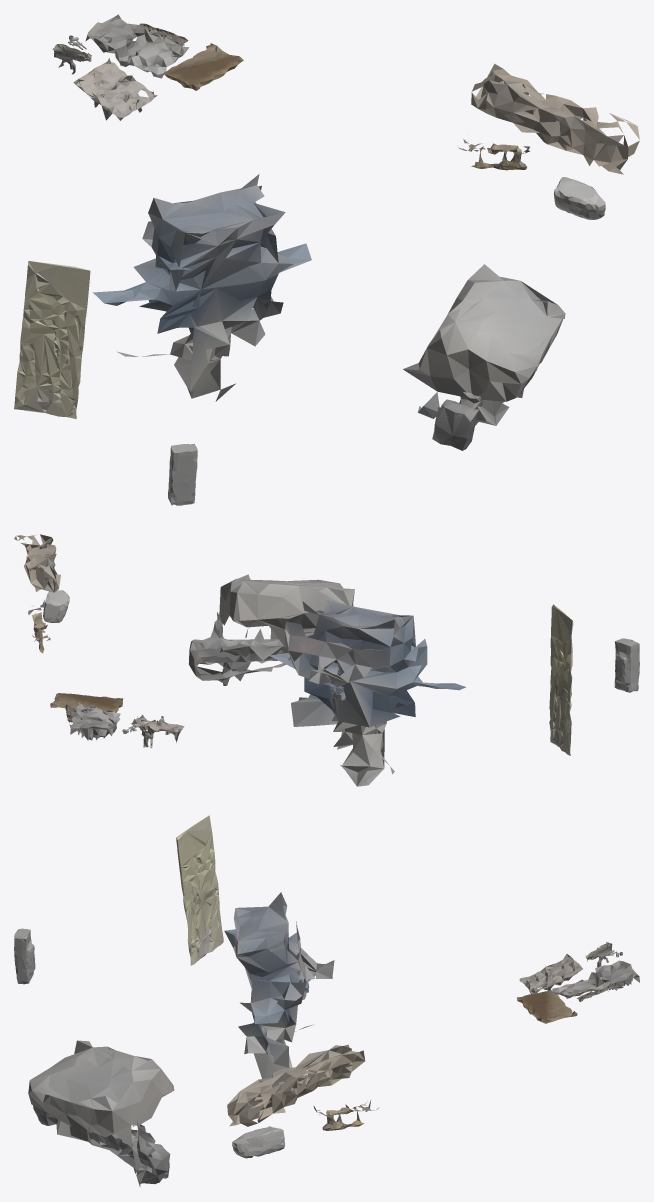
Rendered from models-0-0.glb.
The picture shows the model from 3 angles, top to bottom: view 1: azimuth 30°, elevation 25°; view 2: azimuth 150°, elevation 25°; view 3: azimuth 270°, elevation 25°; orthographic projection. The views are drawn at different scales.
Visible parts, largest first — view 1: obj-0-29, obj-0-26, obj-0-38, obj-0-2, obj-0-30, obj-0-32, obj-0-40, obj-0-46, obj-0-33, obj-0-57, obj-0-28; view 2: obj-0-29, obj-0-26, obj-0-38, obj-0-40, obj-0-2, obj-0-30, obj-0-33, obj-0-46, obj-0-57, obj-0-32, obj-0-28; view 3: obj-0-26, obj-0-29, obj-0-2, obj-0-38, obj-0-40, obj-0-30, obj-0-57, obj-0-46, obj-0-32, obj-0-33, obj-0-28.
Boxes of the visible parts, <box> form: obj-0-29: <box>93,174,311,401</box>; obj-0-26: <box>403,264,565,425</box>; obj-0-38: <box>14,261,90,418</box>; obj-0-2: <box>471,63,639,174</box>; obj-0-30: <box>85,14,189,78</box>; obj-0-32: <box>73,58,157,120</box>; obj-0-40: <box>432,389,523,450</box>; obj-0-46: <box>163,43,243,90</box>; obj-0-33: <box>168,443,197,505</box>; obj-0-57: <box>554,177,605,219</box>; obj-0-28: <box>458,139,529,170</box>; obj-0-29: <box>269,600,466,786</box>; obj-0-26: <box>218,574,354,681</box>; obj-0-38: <box>549,604,573,755</box>; obj-0-40: <box>188,612,285,685</box>; obj-0-2: <box>14,534,60,592</box>; obj-0-30: <box>69,702,120,740</box>; obj-0-33: <box>614,638,639,692</box>; obj-0-46: <box>50,693,123,712</box>; obj-0-57: <box>43,590,69,622</box>; obj-0-32: <box>130,714,184,742</box>; obj-0-28: <box>28,600,50,653</box>; obj-0-26: <box>28,1040,174,1173</box>; obj-0-29: <box>224,892,334,1078</box>; obj-0-2: <box>227,1044,365,1126</box>; obj-0-38: <box>176,815,223,965</box>; obj-0-40: <box>33,1105,170,1186</box>; obj-0-30: <box>552,960,639,998</box>; obj-0-57: <box>232,1126,284,1158</box>; obj-0-46: <box>517,991,577,1023</box>; obj-0-32: <box>519,954,582,993</box>; obj-0-33: <box>14,928,35,984</box>; obj-0-28: <box>313,1099,379,1130</box>.
Bounding box in the file's own units: 8.39 × 2.76 × 8.39.
